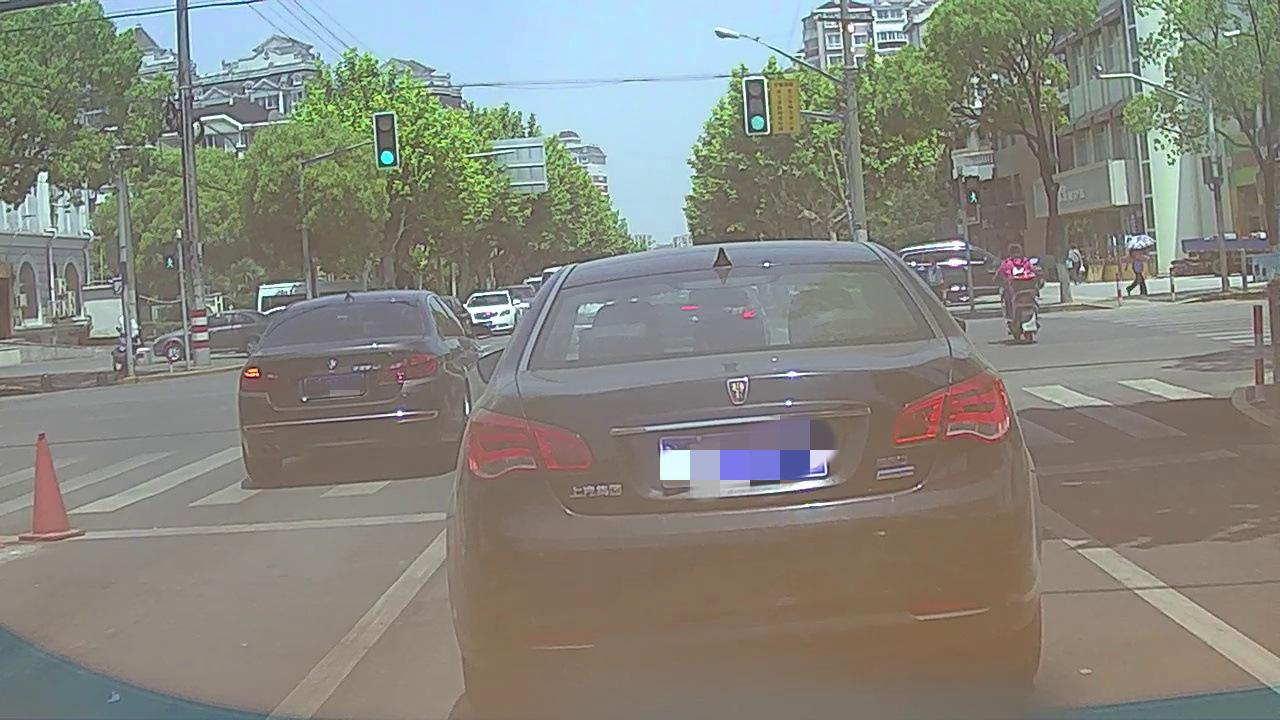traffic_light: (744, 77, 772, 134), (374, 113, 398, 167)
